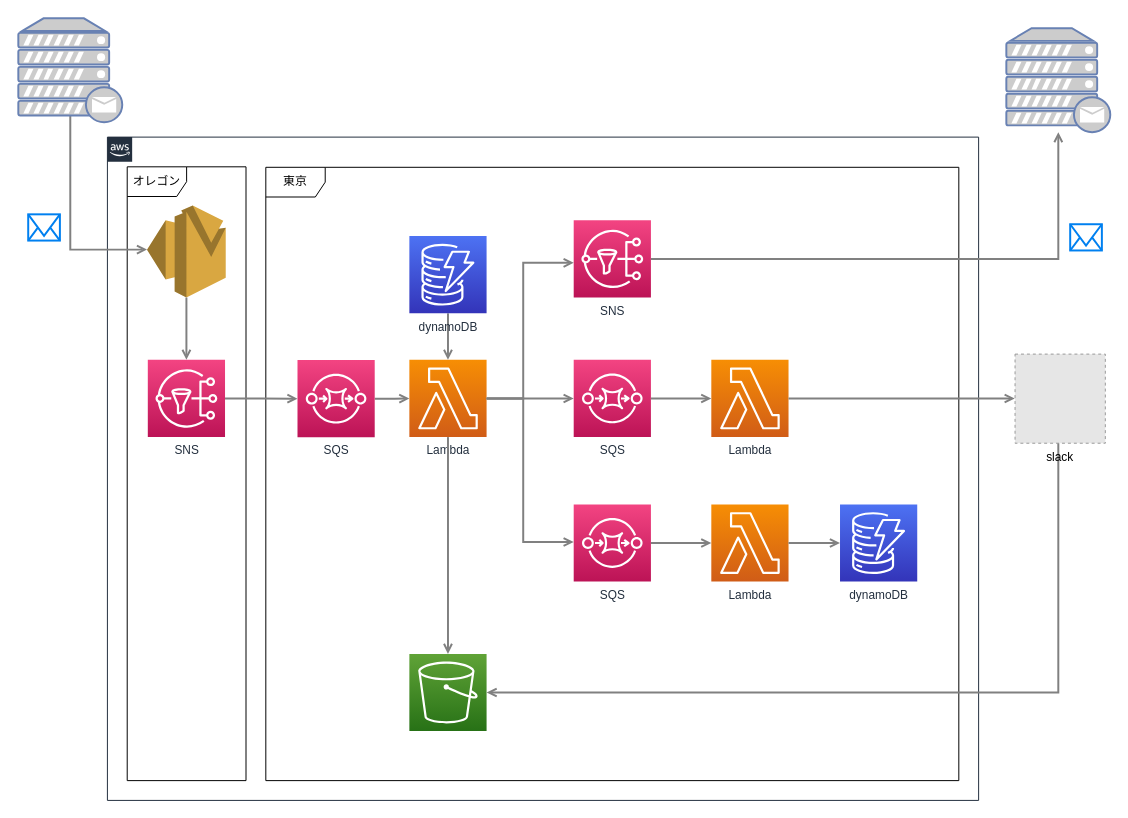
Image size: 1128x818. Some labels were removed from this diagram. Grey dashed boxes stand in for pictures. The centre of each missing label's shape, as x and y in pixels:
"s3" goes at point 447,692.
"SES" goes at point 186,250.
